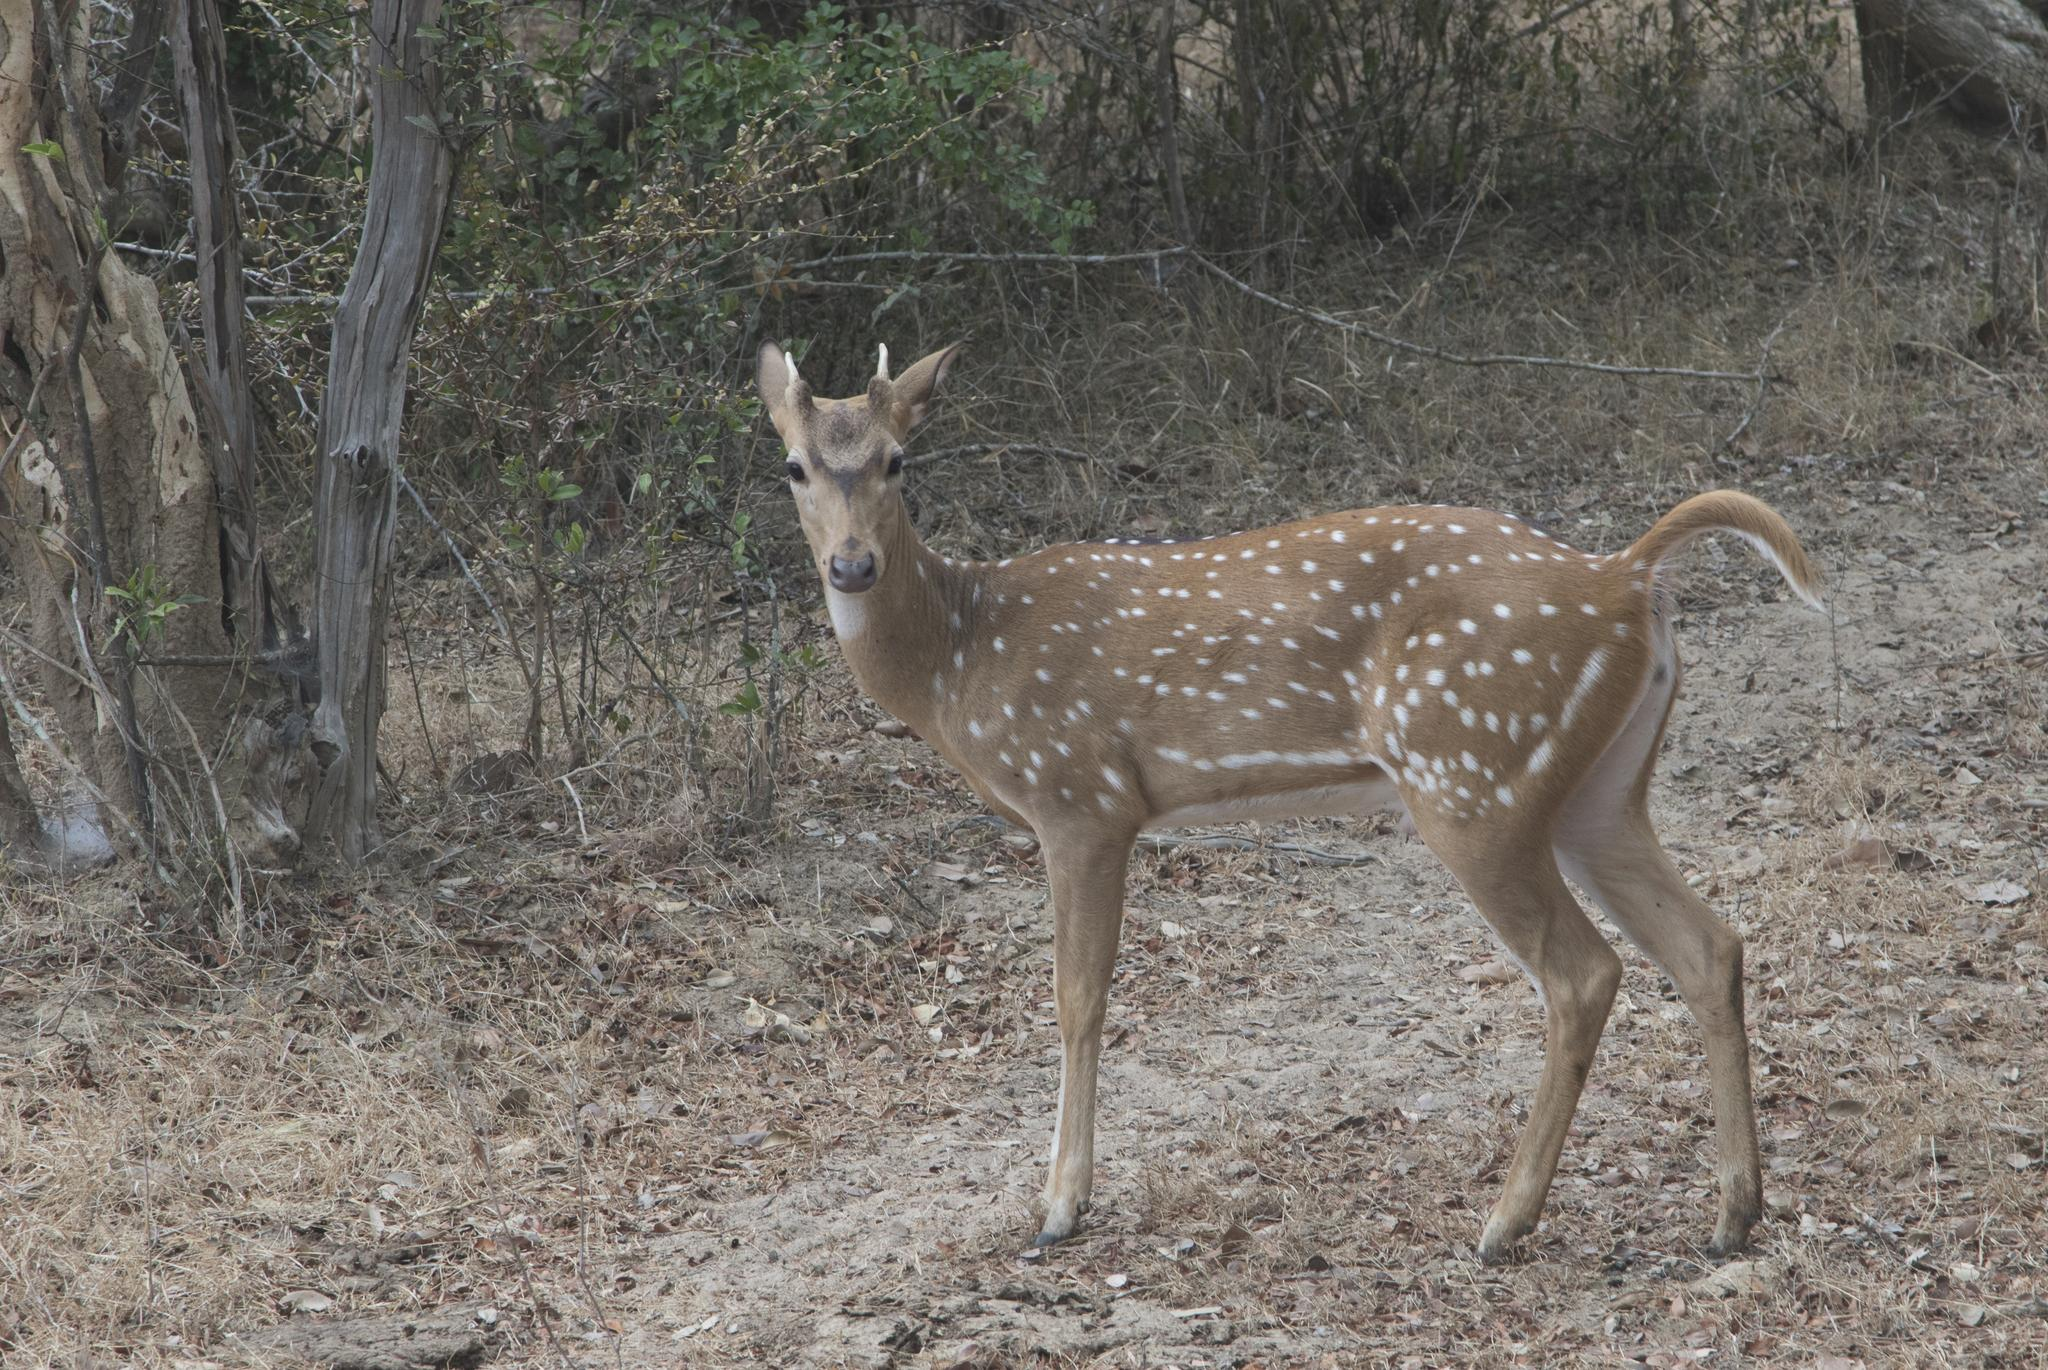Deer: (757, 343, 1820, 1259)
